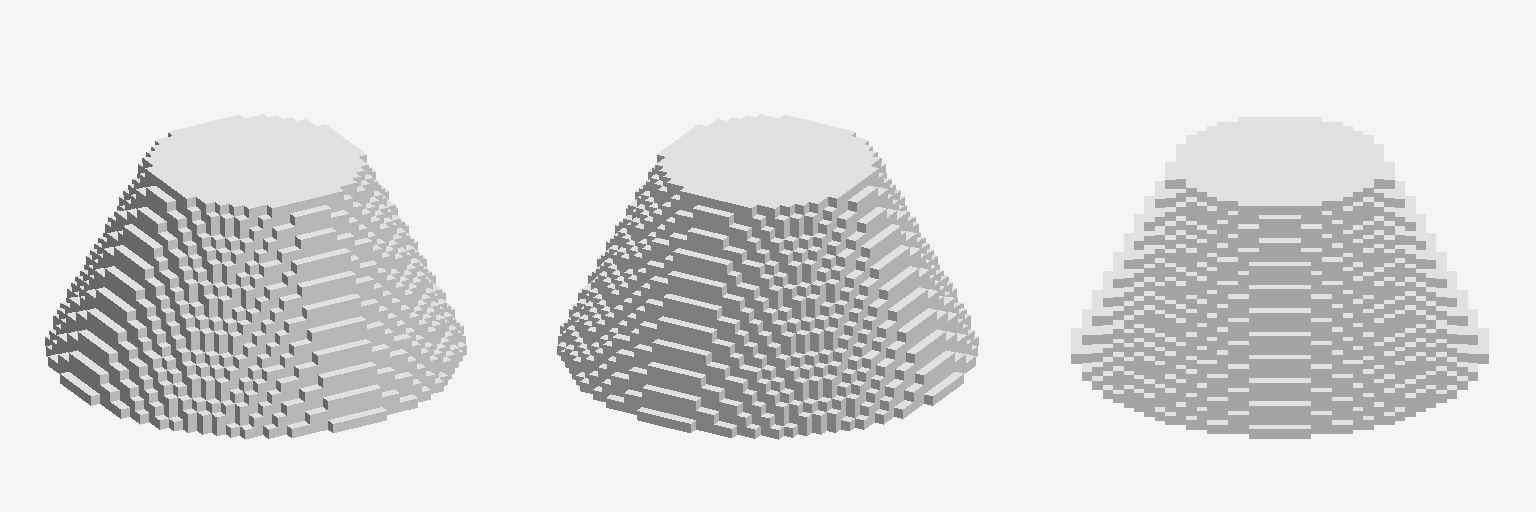
File: enemy_exhaust.obj
3 views of the same model, side by side, from view 1: azimuth 30°, elevation 25°; view 2: azimuth 150°, elevation 25°; view 3: azimuth 270°, elevation 25° (orthographic).
Visible parts, largest first — view 1: enemy_exhaust; view 2: enemy_exhaust; view 3: enemy_exhaust.
Boxes of the visible parts, x1,y1,x2,y2 form: enemy_exhaust: [45, 114, 466, 439]; enemy_exhaust: [557, 114, 978, 439]; enemy_exhaust: [1071, 117, 1488, 438].
Size of the model in its own units: 40 by 20 by 40.